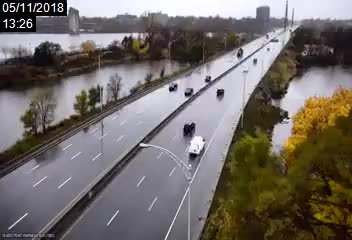personal_car: (186, 135, 206, 156), (182, 120, 197, 137), (167, 81, 180, 92), (214, 87, 226, 97), (182, 87, 195, 96), (203, 74, 212, 82)
